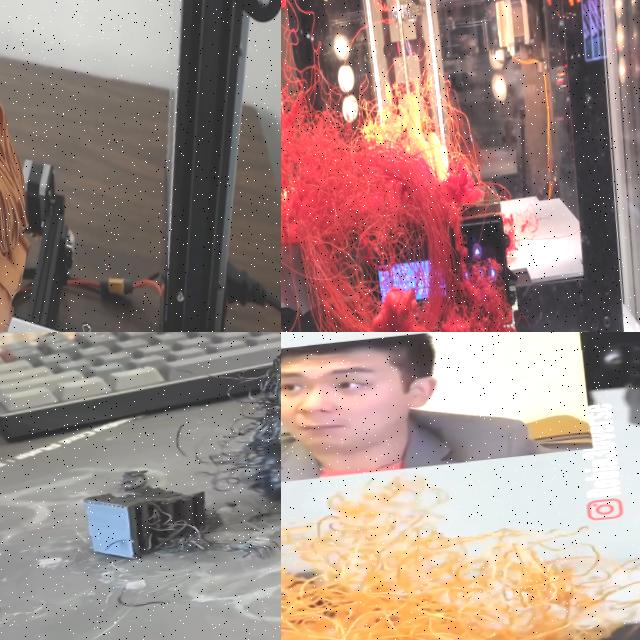spaghetti: (281, 0, 518, 332), (281, 461, 640, 640), (100, 332, 281, 562)
